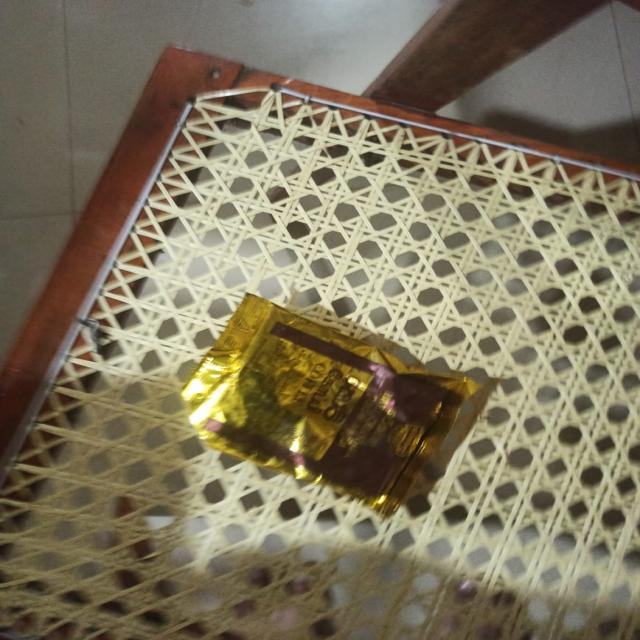Harischandra Coffee: (199, 304, 504, 518)
